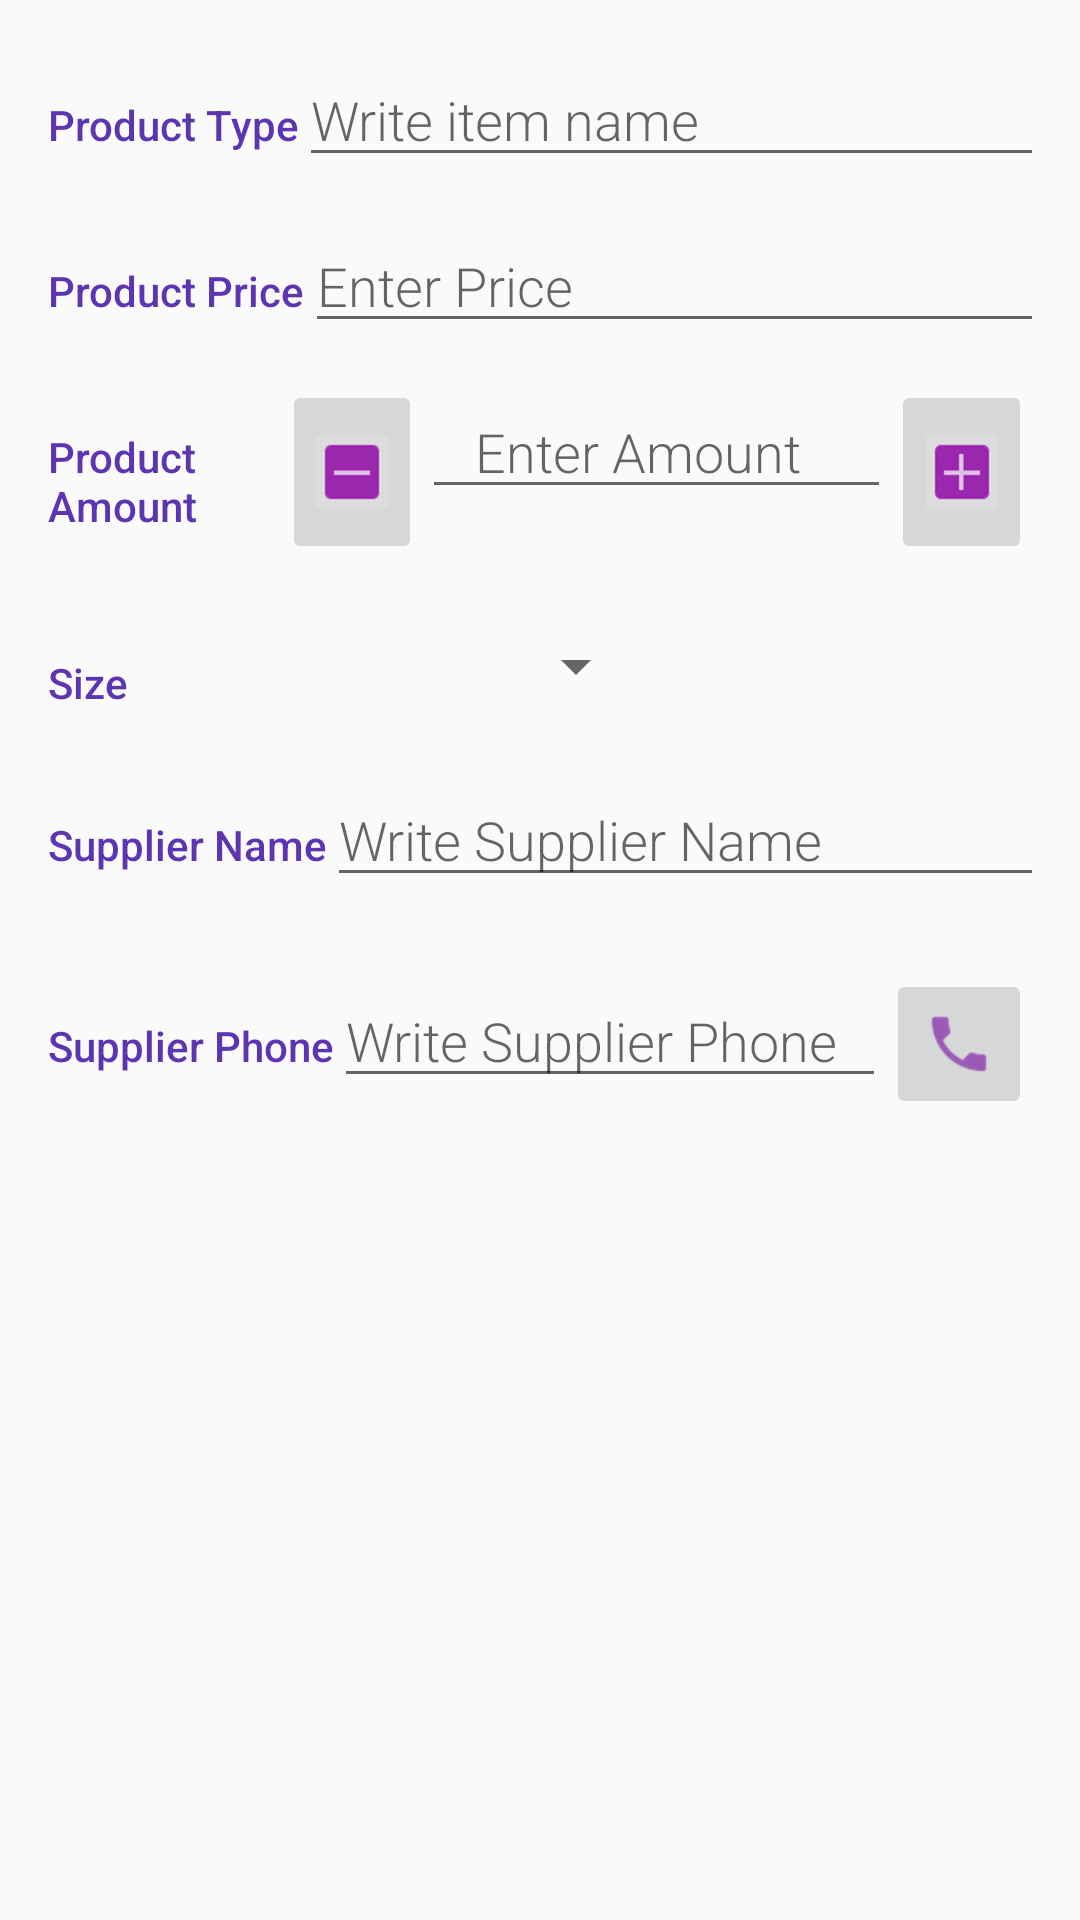

Icon bounding boxes for this 1080 x 1920 phone screenshot, format (x1, y1, x2, y2):
decrease amount: (294, 398, 410, 546)
increase amount: (903, 398, 1020, 546)
